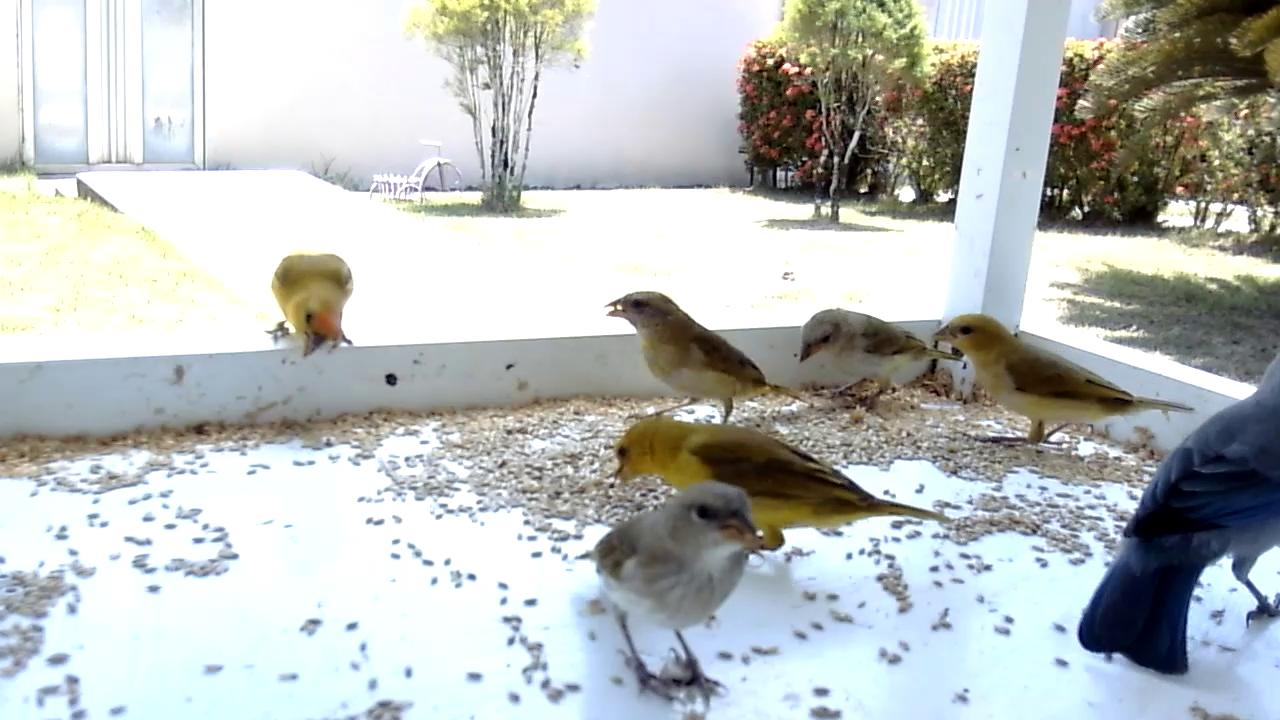canario_do_amazonas: (618, 415, 950, 553), (591, 484, 757, 710), (934, 314, 1194, 448), (604, 290, 800, 430), (799, 310, 963, 405), (260, 248, 357, 359)
sanhaco_da_amazonia: (1078, 352, 1280, 677)
